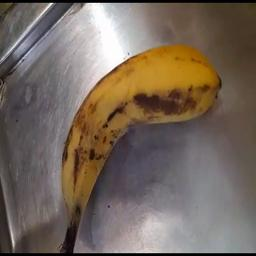Banana Semirotten: (43, 39, 256, 255)
